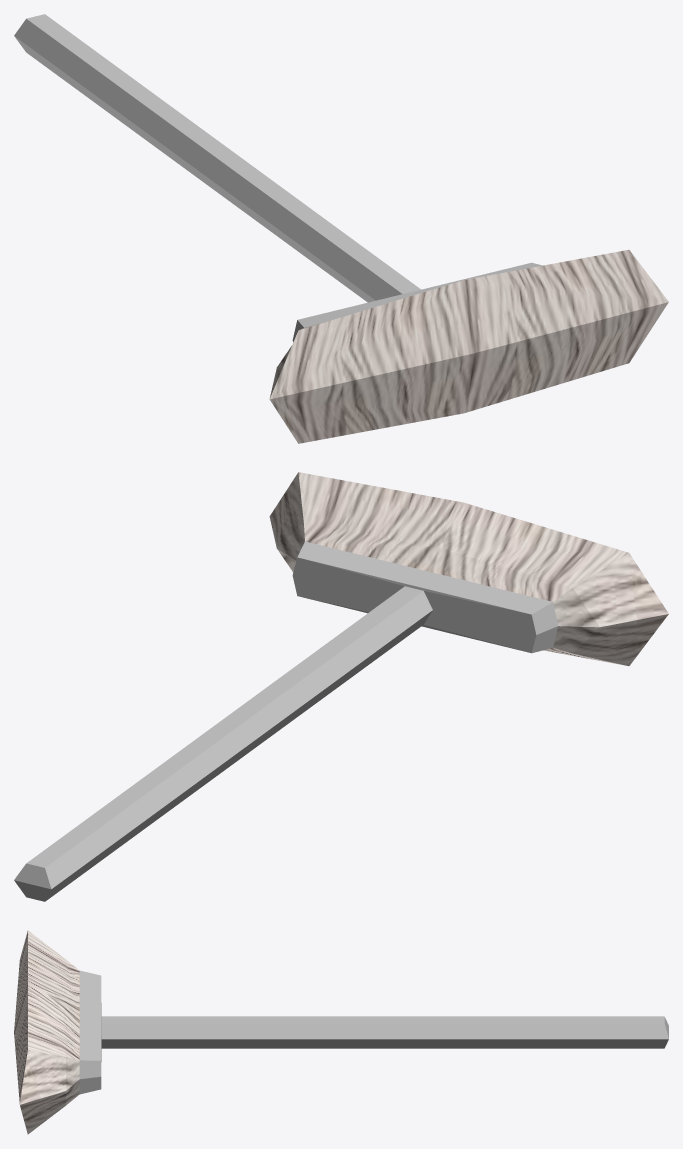
File: vassoura.fbx
3 renders of one model, top to bottom at view 1: azimuth 30°, elevation 25°; view 2: azimuth 150°, elevation 25°; view 3: azimuth 270°, elevation 25°, orthographic. The views are drawn at different scales.
Parts seen in each view (by area): view 1: Cube; view 2: Cube; view 3: Cube.
Boxes of the visible parts, box(x1,y1,x2,y2) form: Cube: box(14, 14, 668, 443); Cube: box(14, 472, 668, 901); Cube: box(14, 930, 668, 1134).
Bounding box in the file's own units: 104 × 33.01 × 198.
